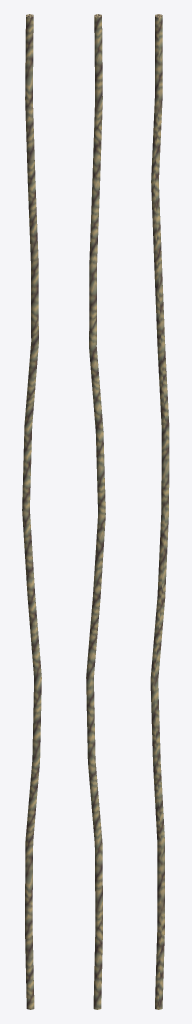
The model's file is SM_Torii_gate_sacred_rope_loose_straight_long_LOD0.fbx.
3 views of the same model, side by side, from view 1: azimuth 30°, elevation 25°; view 2: azimuth 210°, elevation 25°; view 3: azimuth 270°, elevation 25° (orthographic).
Parts seen in each view (by area): view 1: SM_Torii_gate_sacred_rope_loose_straight_long_LOD0_LOD0; view 2: SM_Torii_gate_sacred_rope_loose_straight_long_LOD0_LOD0; view 3: SM_Torii_gate_sacred_rope_loose_straight_long_LOD0_LOD0.
Part boxes in pixels (x1,y1,x2,y2): SM_Torii_gate_sacred_rope_loose_straight_long_LOD0_LOD0: (22,14,41,1009); SM_Torii_gate_sacred_rope_loose_straight_long_LOD0_LOD0: (86,14,105,1009); SM_Torii_gate_sacred_rope_loose_straight_long_LOD0_LOD0: (150,14,169,1009).
Bounding box in the file's own units: 7.21 × 7.83 × 453.
